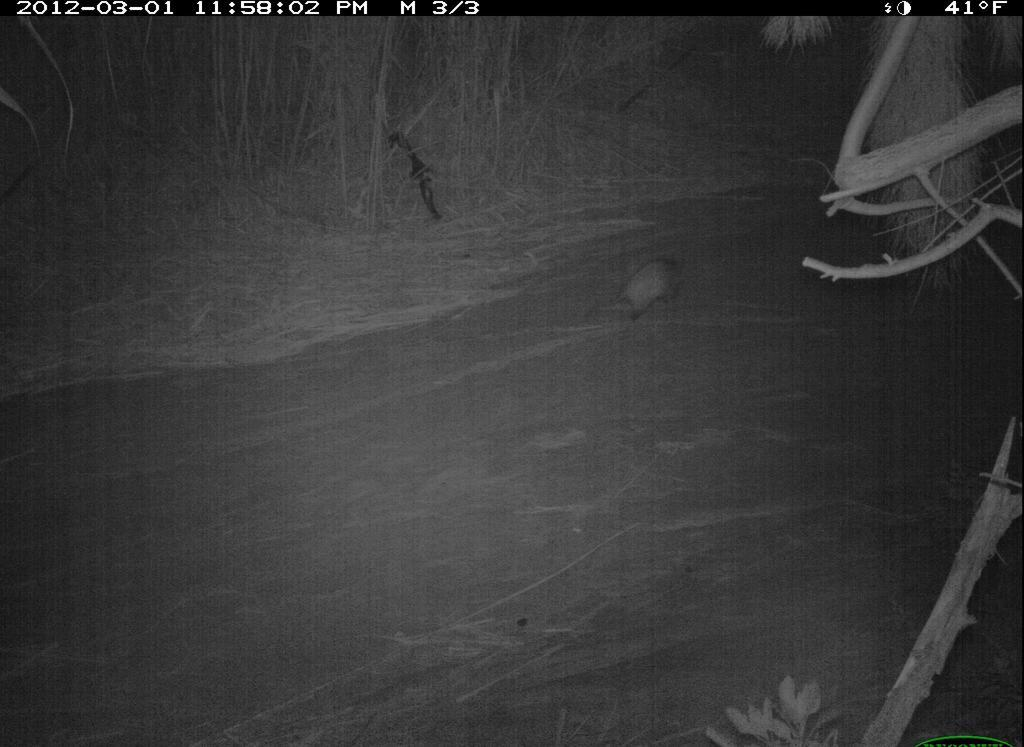opossum: (596, 241, 702, 340)
